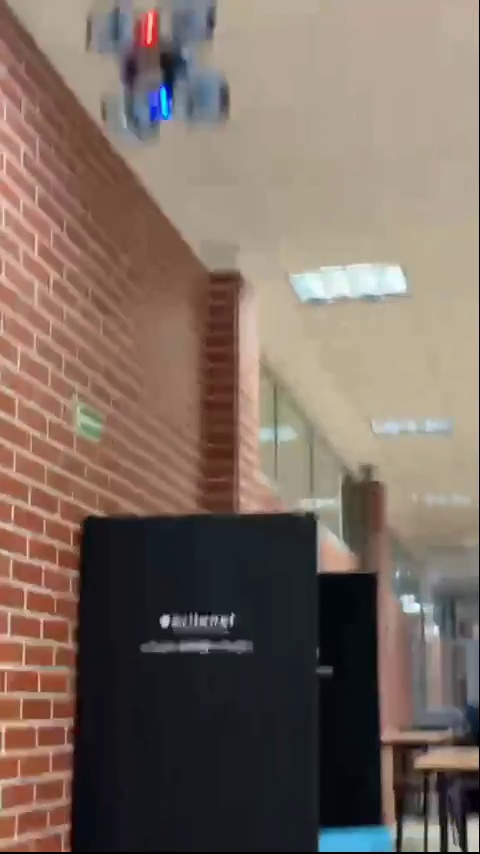drone: (81, 0, 234, 131)
